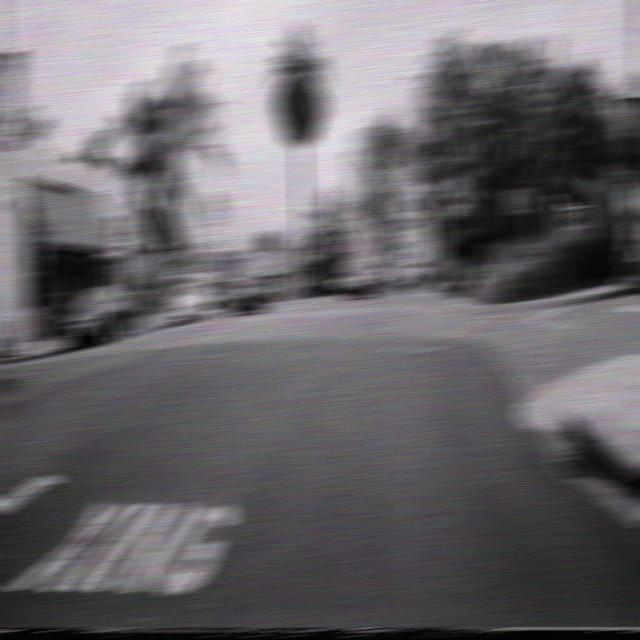pedestrianCrossing: (445, 175, 467, 201)
